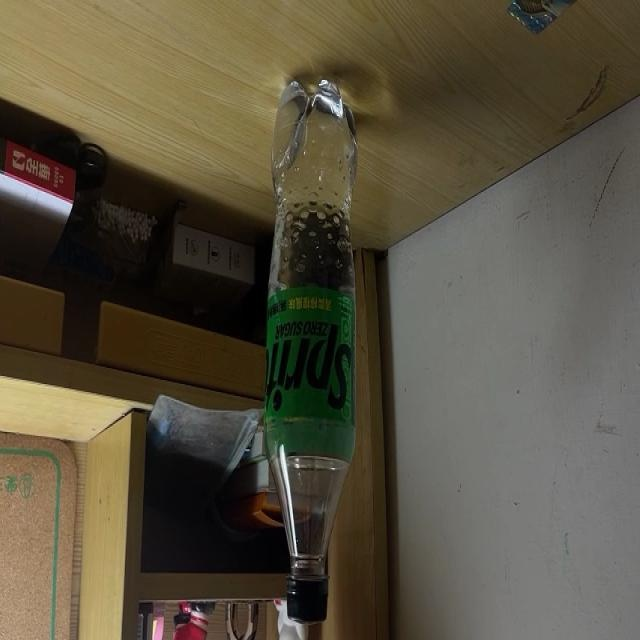Sprite: (263, 75, 358, 628)
